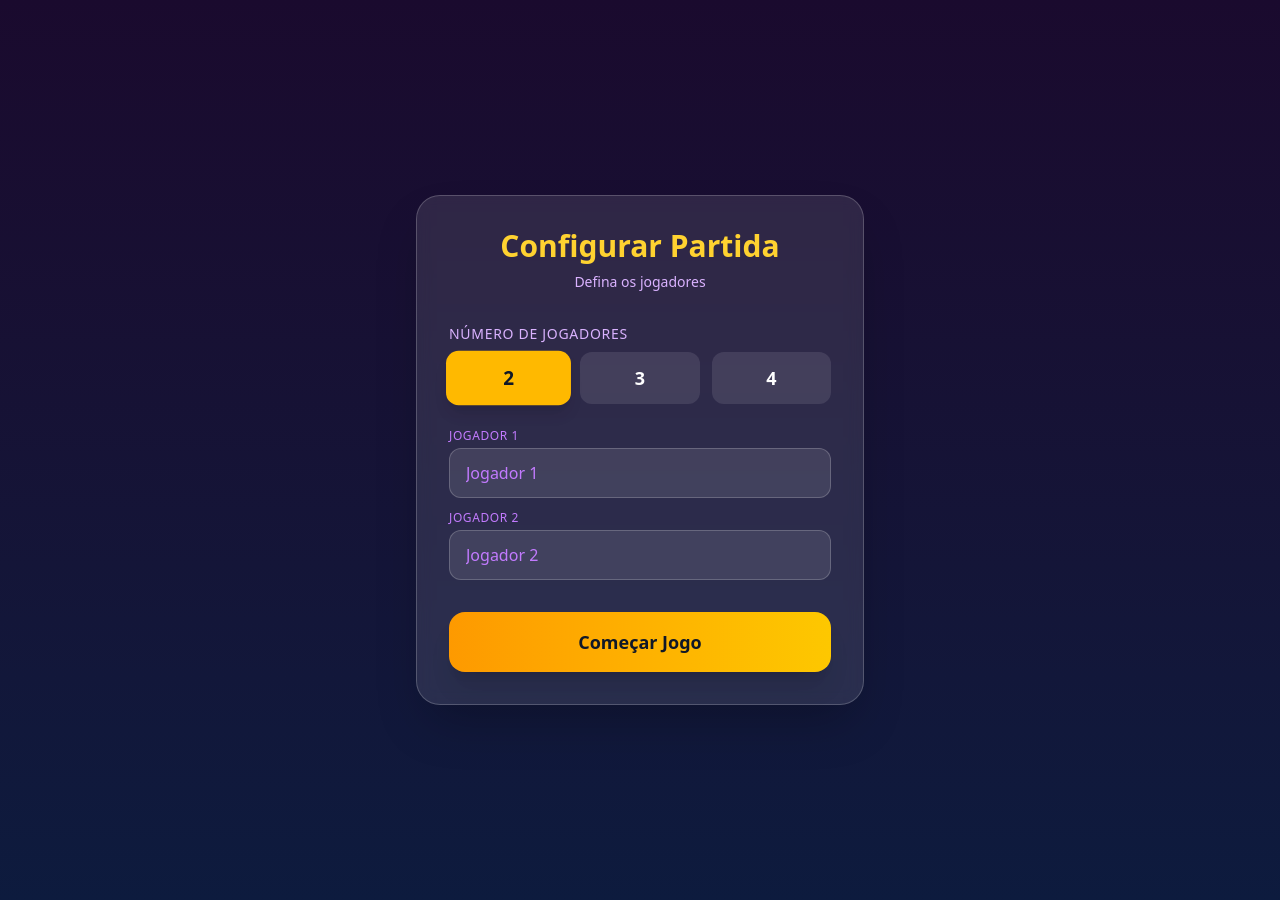
it: SetupScreen › changes player count when clicking button
Click the button "3" at [640, 378], box [580,352,700,404]
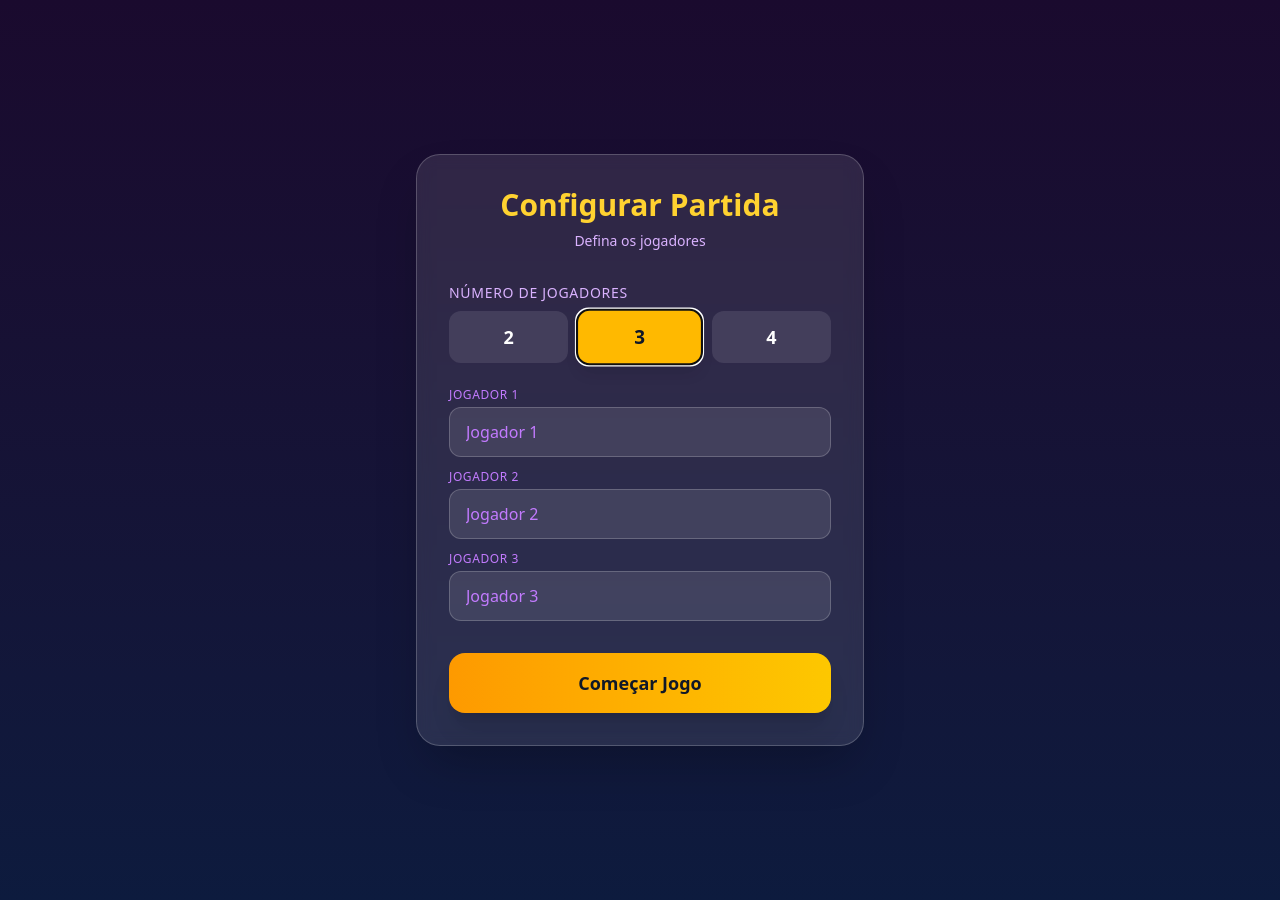
Expected: the field with placeholder "Jogador 1" is shown, [449,407,831,457]
Expected: the field with placeholder "Jogador 3" is shown, [449,571,831,621]
